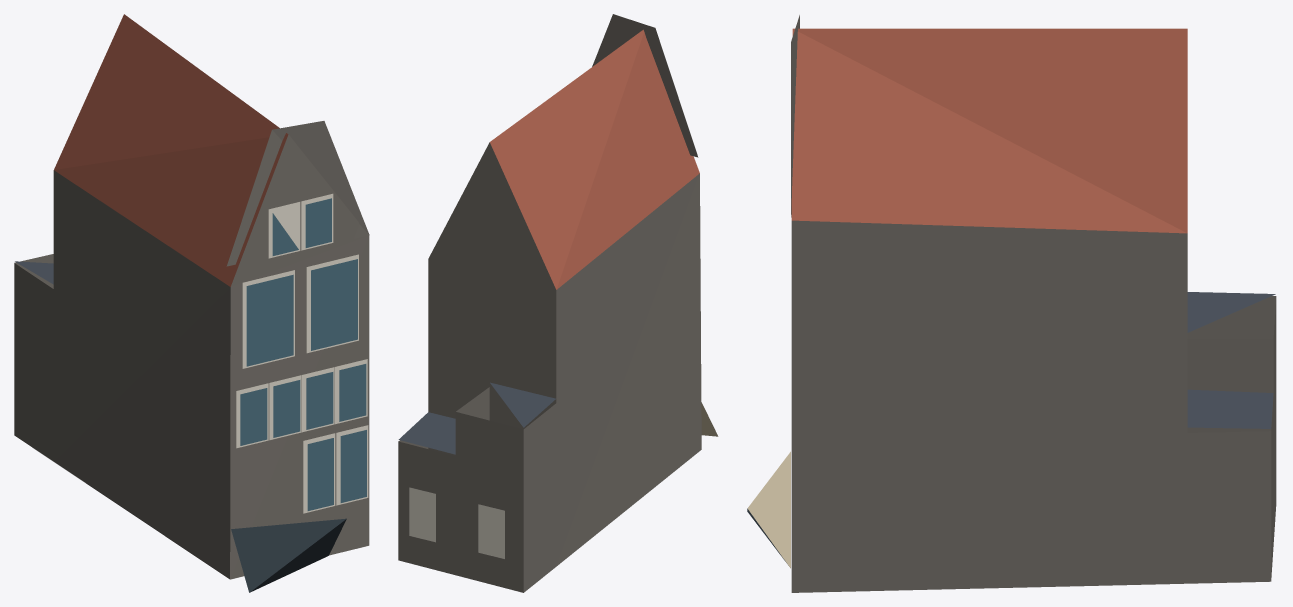
File: multatuli.lod2.glb
The picture shows the model from 3 angles, left to right: view 1: azimuth 30°, elevation 25°; view 2: azimuth 150°, elevation 25°; view 3: azimuth 270°, elevation 25°; orthographic projection. The views are drawn at different scales.
Parts seen in each view (by area): view 1: lod2; view 2: lod2; view 3: lod2.
Part boxes in pixels (box(x1,y1,x2,y2)): lod2: box(14, 14, 369, 592); lod2: box(398, 14, 718, 592); lod2: box(747, 15, 1276, 592).
Size of the model in its own units: 5.12 by 13.91 by 12.78.
